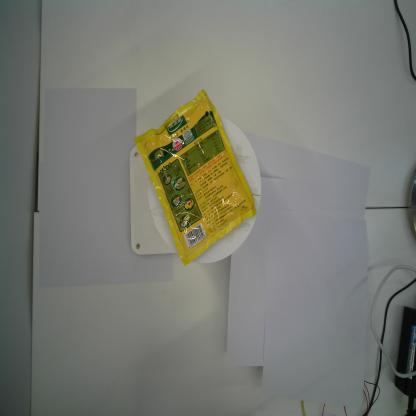Seasoner: (134, 89, 257, 266)
